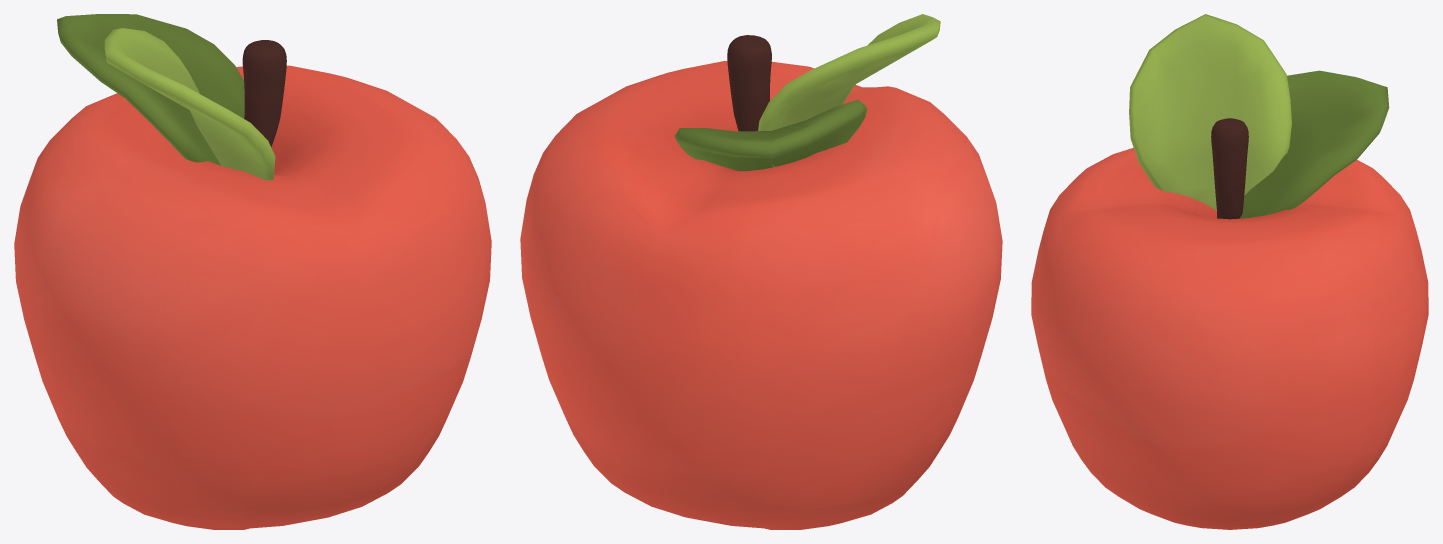
File: apple_2.glb
The picture shows the model from 3 angles, left to right: view 1: azimuth 30°, elevation 25°; view 2: azimuth 150°, elevation 25°; view 3: azimuth 270°, elevation 25°; orthographic projection. The views are drawn at different scales.
Visible parts, largest first — view 1: apple; view 2: apple; view 3: apple.
Boxes of the visible parts, x1,y1,x2,y2 form: apple: (14,14,491,529); apple: (520,14,1002,529); apple: (1031,14,1428,529).
Bounding box in the file's own units: 21.97 × 24.37 × 21.46.
Materials: 1 (1 with a texture image).
